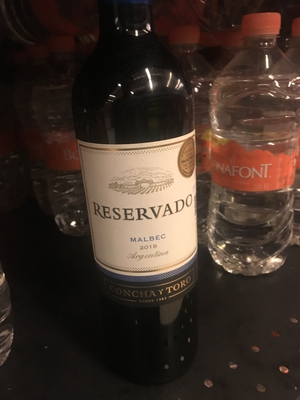reservado malbec: (76, 7, 204, 339)
